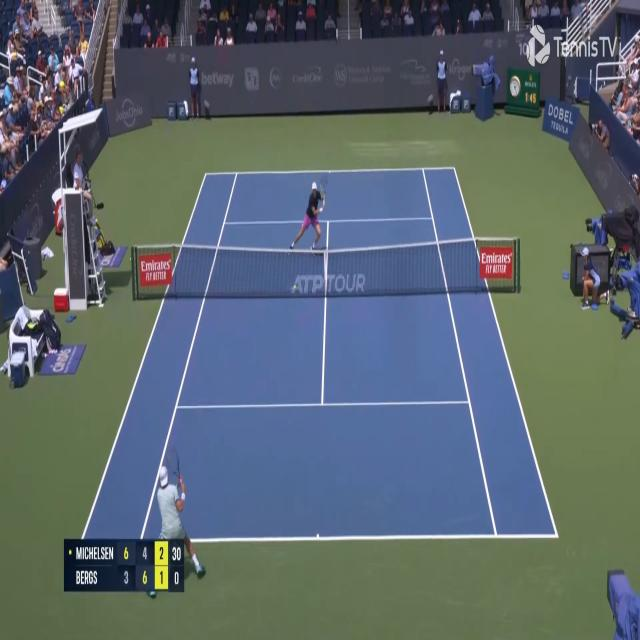tennis-player: (150, 424, 209, 604), (288, 172, 329, 257)
